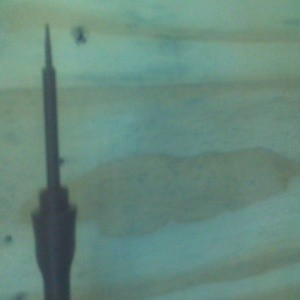solder: (29, 22, 77, 300)
